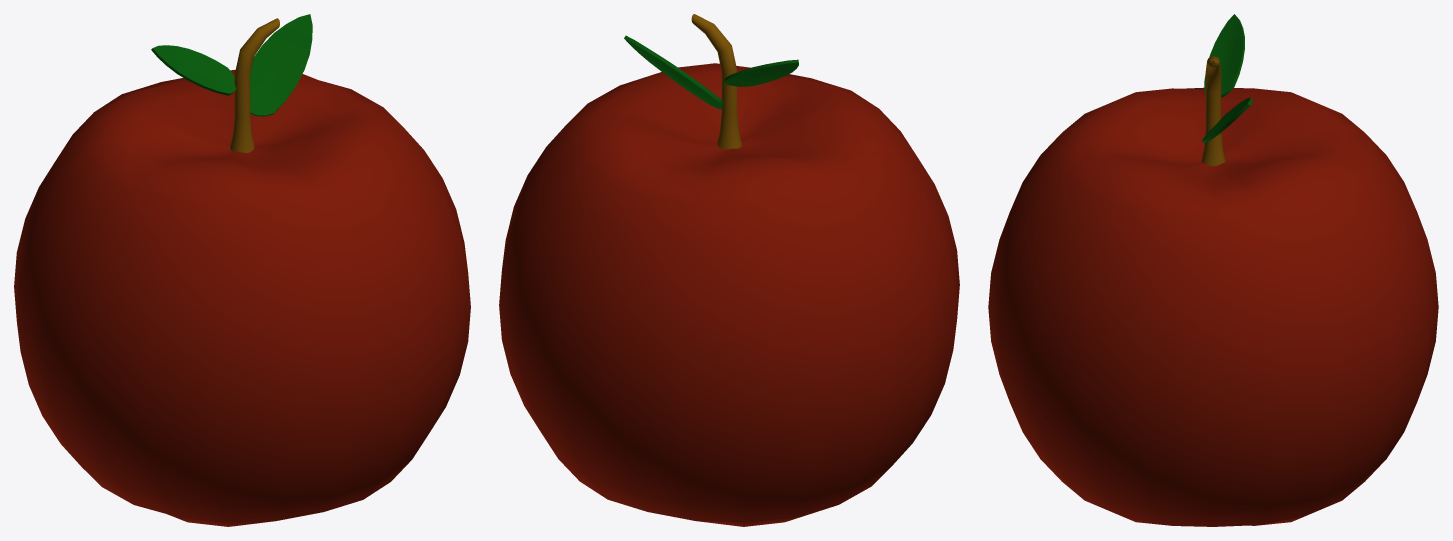
Rendered from Manzana.fbx.
The picture shows the model from 3 angles, left to right: view 1: azimuth 30°, elevation 25°; view 2: azimuth 150°, elevation 25°; view 3: azimuth 270°, elevation 25°; orthographic projection. The views are drawn at different scales.
Visible parts, largest first — view 1: Manzana; view 2: Manzana; view 3: Manzana.
Part boxes in pixels (left/top/right/bottom): Manzana: left=14, top=14, right=470, bottom=526; Manzana: left=499, top=14, right=959, bottom=526; Manzana: left=988, top=14, right=1438, bottom=526.
Bounding box in the file's own units: 17.85 × 19.07 × 17.85.
1 material, 1 textured.
